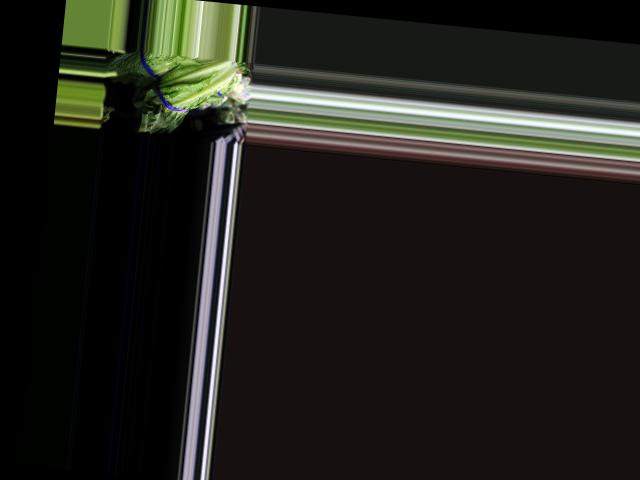lettuce: (133, 51, 232, 134)
